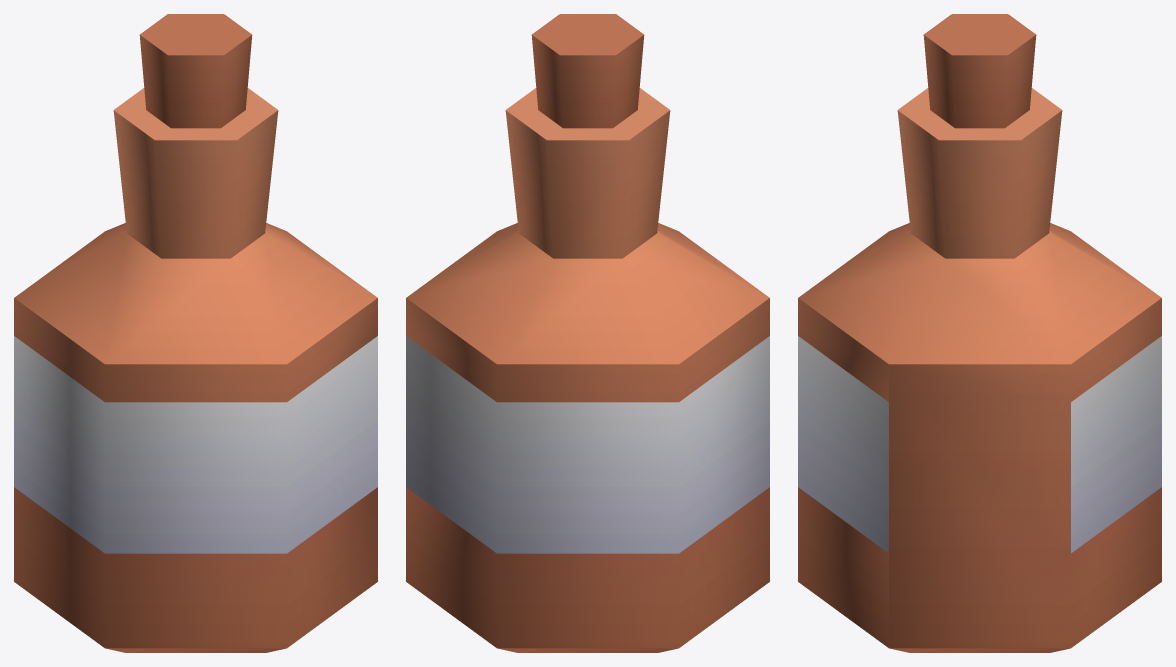
File: surv.bottle_large.glb
3 views of the same model, side by side, from view 1: azimuth 30°, elevation 25°; view 2: azimuth 150°, elevation 25°; view 3: azimuth 270°, elevation 25° (orthographic).
Parts seen in each view (by area): view 1: bottle-large; view 2: bottle-large; view 3: bottle-large.
Boxes of the visible parts, x1,y1,x2,y2 form: bottle-large: (14, 14, 377, 652); bottle-large: (406, 14, 769, 652); bottle-large: (798, 14, 1161, 652).
Bounding box in the file's own units: 0.1896 × 0.3764 × 0.2189.
Materials: 1 (1 with a texture image).
